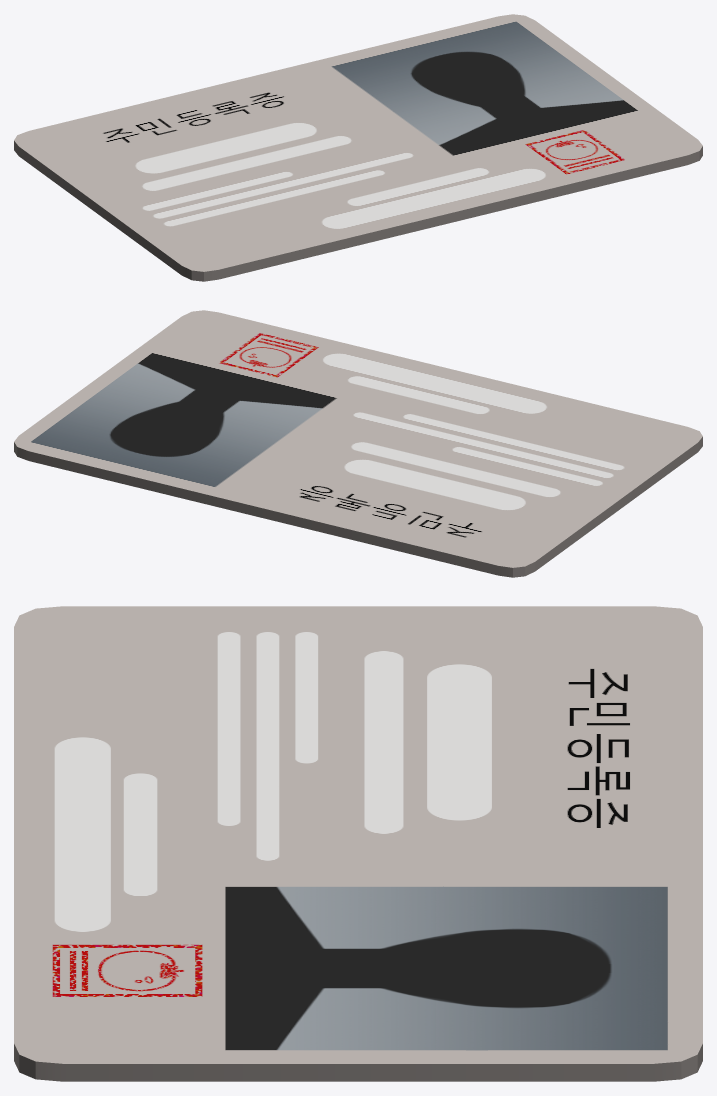
The model's file is idcard.FBX.
3 views of the same model, one above another, from view 1: azimuth 30°, elevation 25°; view 2: azimuth 150°, elevation 25°; view 3: azimuth 270°, elevation 25° (orthographic). The views are drawn at different scales.
Parts seen in each view (by area): view 1: idcard; view 2: idcard; view 3: idcard.
Part boxes in pixels (x1=…): idcard: x1=14, y1=14, x2=702, y2=281; idcard: x1=14, y1=310, x2=702, y2=577; idcard: x1=14, y1=606, x2=702, y2=1081.
Size of the model in its own units: 11 by 0.2 by 7.
